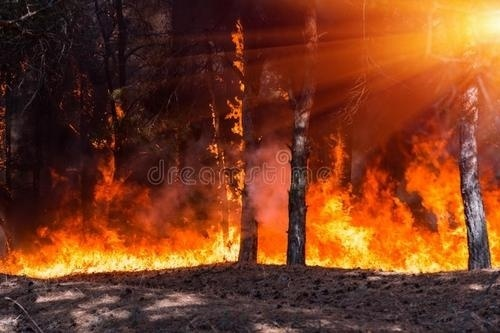fire: (0, 121, 247, 283), (225, 139, 491, 271)
